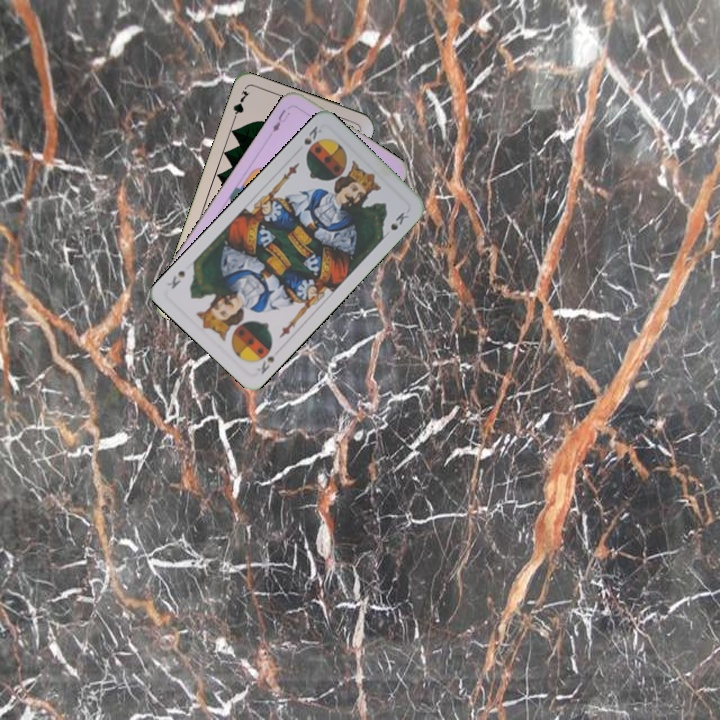EU: (268, 105, 293, 135)
G7: (228, 86, 252, 125)
SK: (252, 341, 278, 377), (300, 122, 324, 147)
